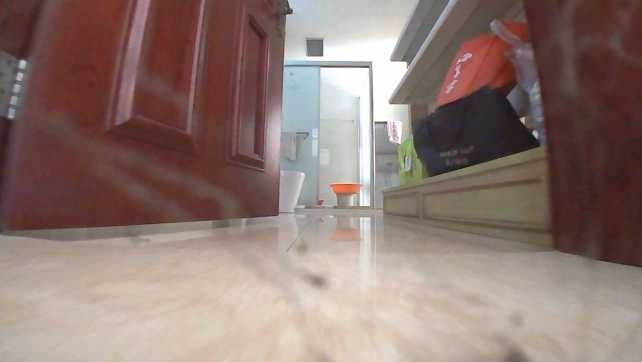door_anno: (2, 0, 294, 230)
toilet: (279, 169, 306, 215)
